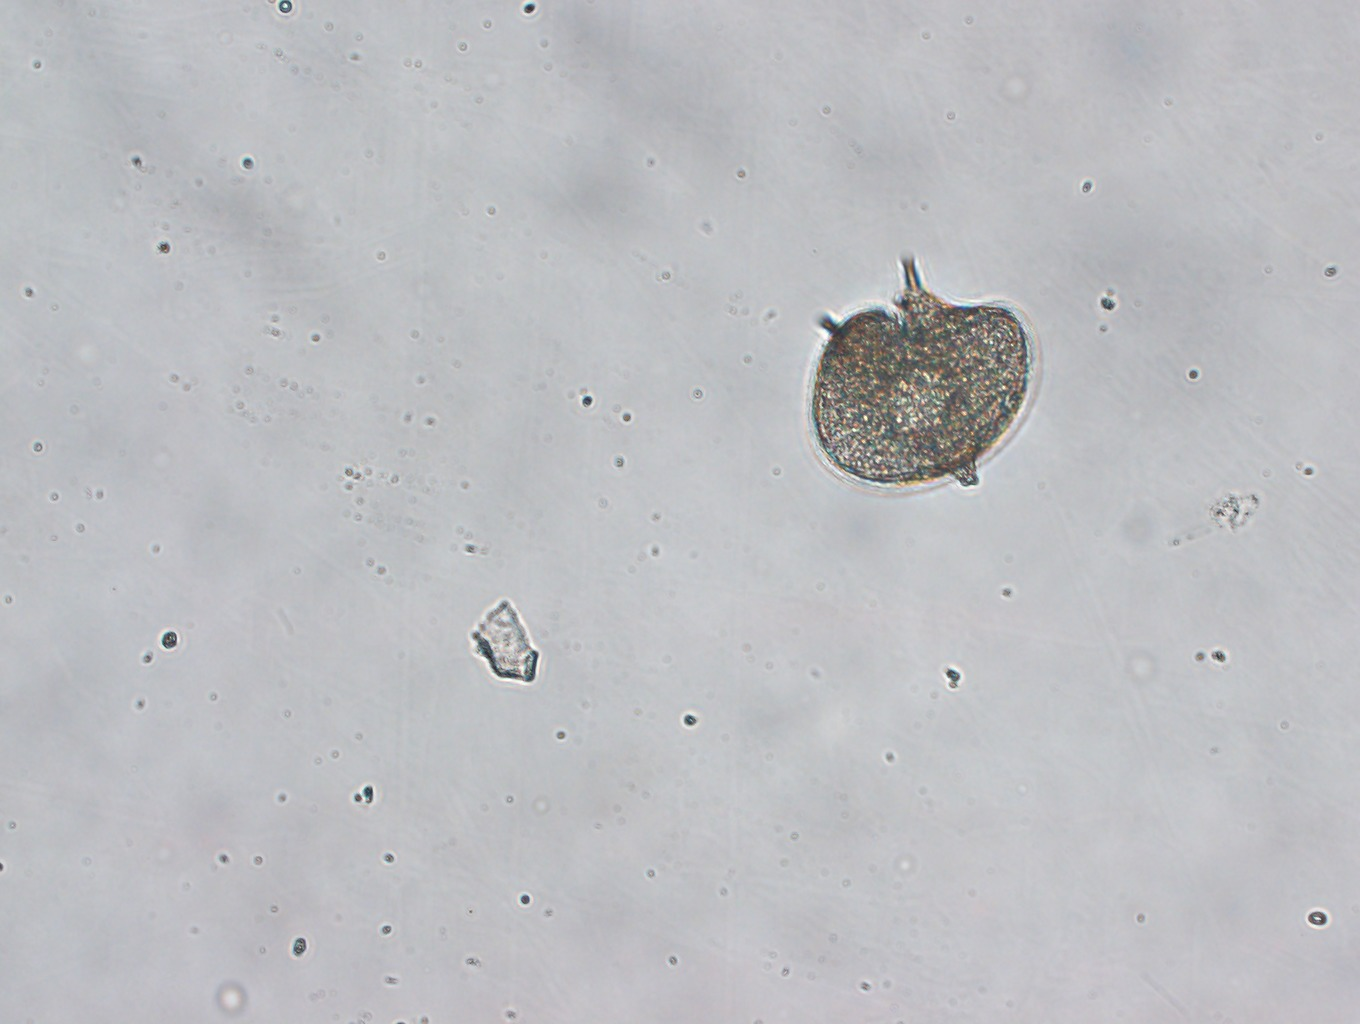protoperidinium: (805, 253, 1044, 497)
